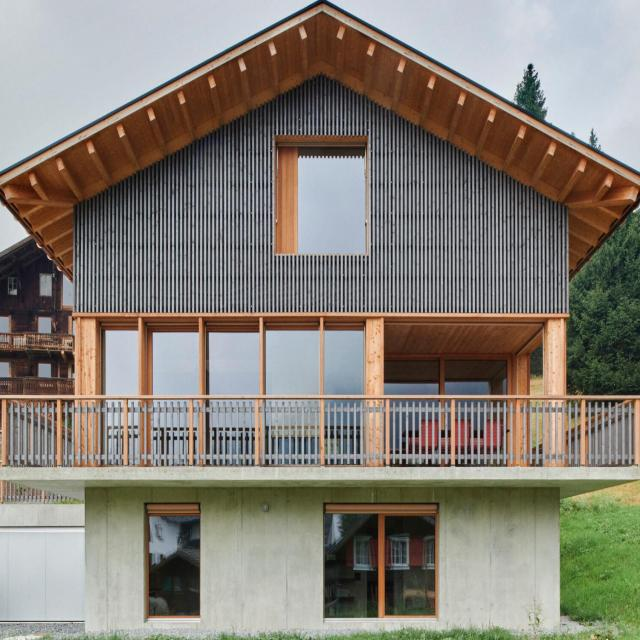railing: (1, 397, 639, 466)
window: (99, 326, 366, 396), (325, 505, 438, 619), (281, 146, 369, 255), (147, 506, 203, 619), (384, 353, 512, 396)
